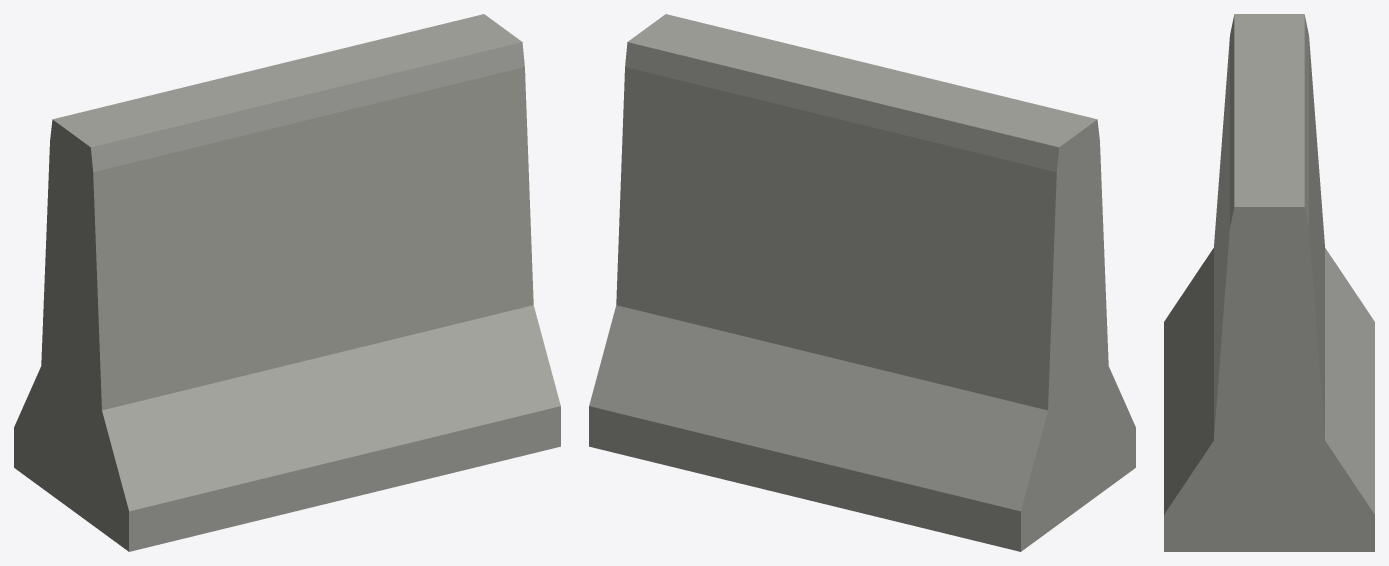
The model's file is workzone_concrete_barrier.obj.
3 renders of one model, left to right at view 1: azimuth 30°, elevation 25°; view 2: azimuth 150°, elevation 25°; view 3: azimuth 270°, elevation 25°, orthographic. The views are drawn at different scales.
Visible parts, largest first — view 1: workzone_concrete_barrier; view 2: workzone_concrete_barrier; view 3: workzone_concrete_barrier.
Boxes of the visible parts, x1=… form: workzone_concrete_barrier: x1=14, y1=14, x2=560, y2=551; workzone_concrete_barrier: x1=589, y1=14, x2=1135, y2=551; workzone_concrete_barrier: x1=1164, y1=14, x2=1374, y2=551.
Size of the model in its own units: 0.975 by 0.8125 by 0.45.
